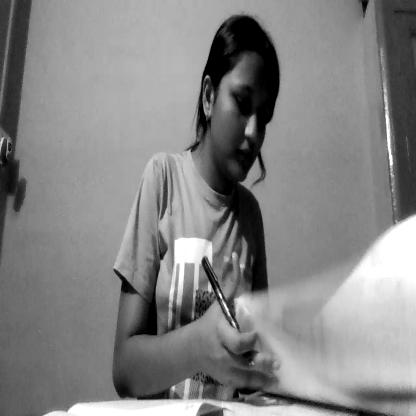Distracted: (208, 42, 281, 185)
